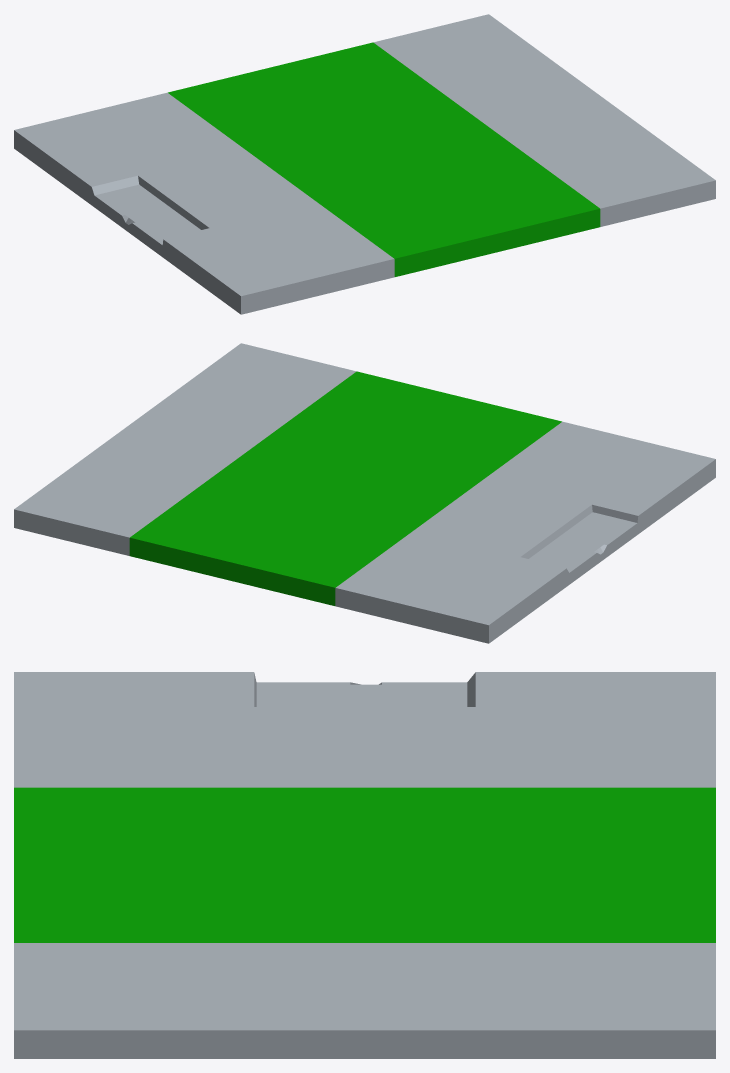
File: hdd dan ssd_Scene.fbx
3 views of the same model, one above another, from view 1: azimuth 30°, elevation 25°; view 2: azimuth 150°, elevation 25°; view 3: azimuth 270°, elevation 25° (orthographic). The views are drawn at different scales.
Parts seen in each view (by area): view 1: Cube.003; view 2: Cube.003; view 3: Cube.003.
Boxes of the visible parts, <box> form: Cube.003: <box>14,14,715,314</box>; Cube.003: <box>14,343,715,643</box>; Cube.003: <box>14,672,715,1058</box>.
Bounding box in the file's own units: 257 × 9.57 × 213.
